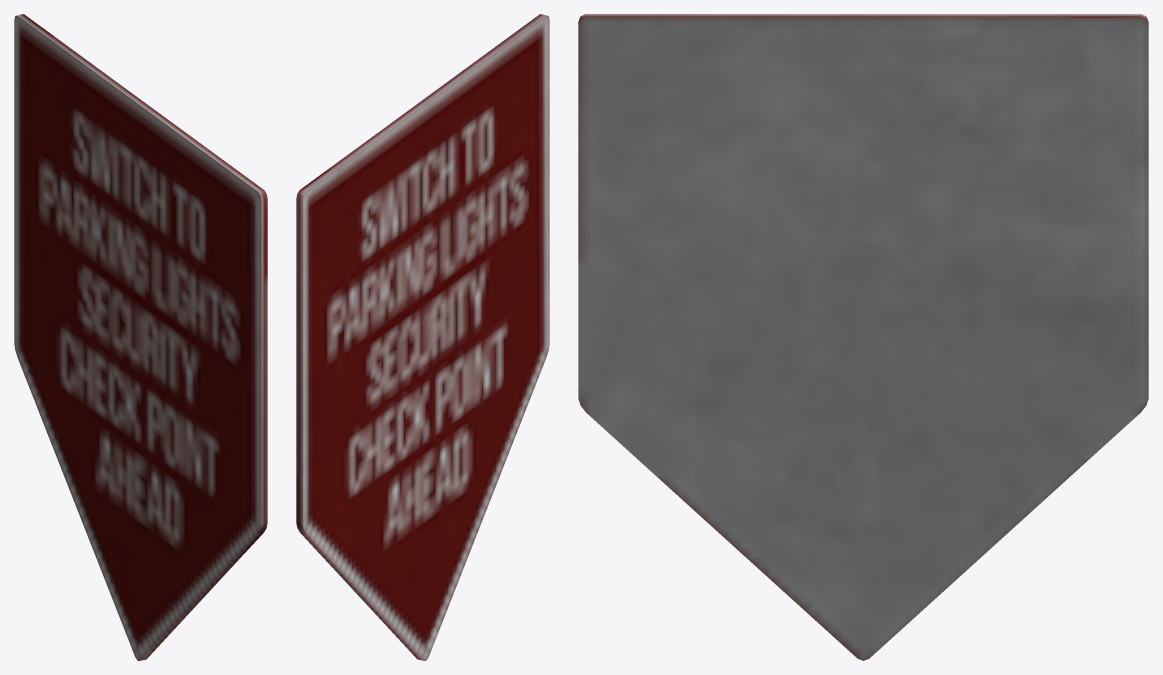
The model's file is SM_Sign_5_Switch.fbx.
The picture shows the model from 3 angles, left to right: view 1: azimuth 30°, elevation 25°; view 2: azimuth 150°, elevation 25°; view 3: azimuth 270°, elevation 25°; orthographic projection. The views are drawn at different scales.
Visible parts, largest first — view 1: SM_Sign_5_Switch_LOD0; view 2: SM_Sign_5_Switch_LOD0; view 3: SM_Sign_5_Switch_LOD0.
Boxes of the visible parts, x1=… form: SM_Sign_5_Switch_LOD0: x1=14, y1=14, x2=267, y2=660; SM_Sign_5_Switch_LOD0: x1=296, y1=14, x2=549, y2=660; SM_Sign_5_Switch_LOD0: x1=578, y1=14, x2=1148, y2=660.
Bounding box in the file's own units: 0.864 × 57.6 × 71.66.
1 material, 1 textured.
